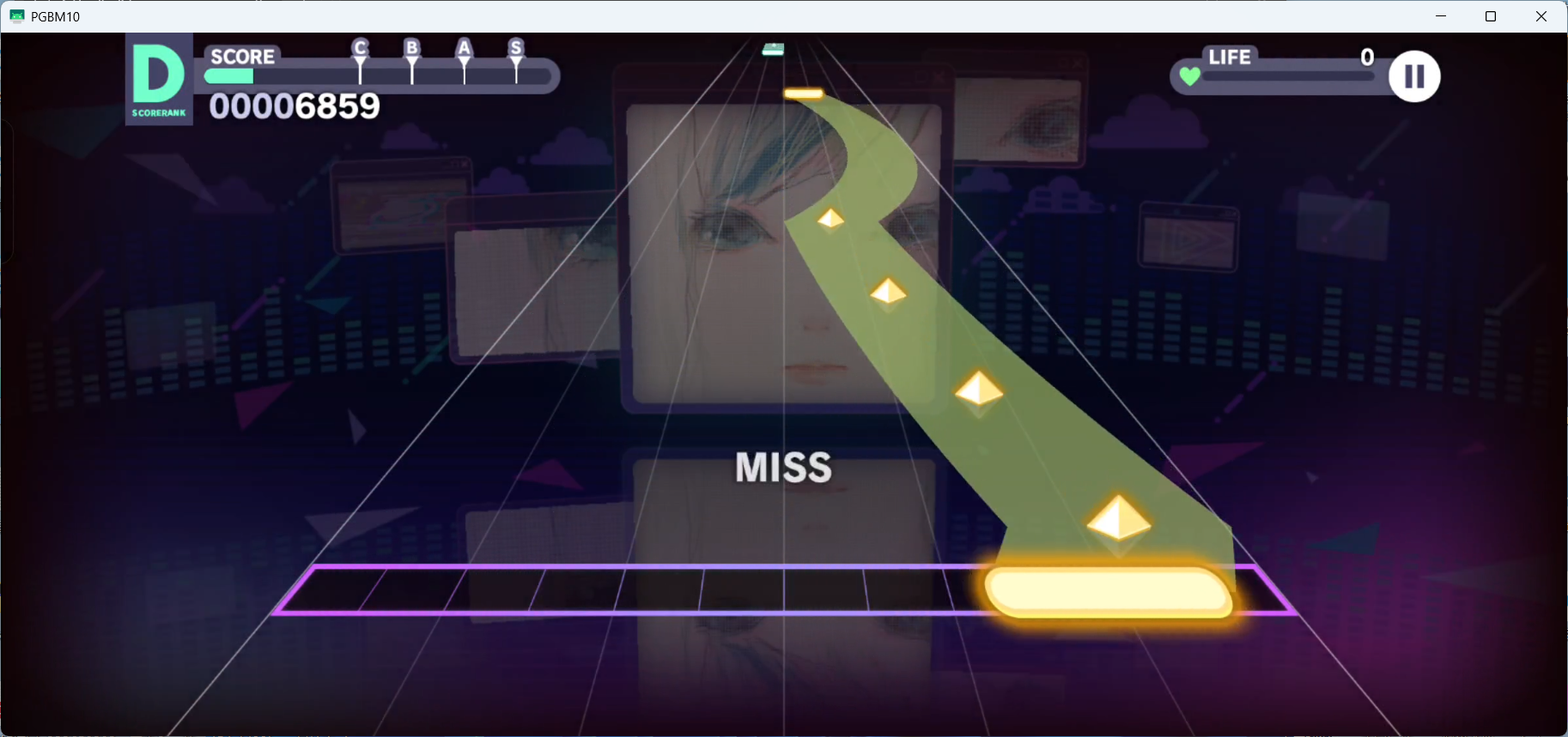hold: (783, 100, 1235, 554), (763, 43, 783, 50)
sweep: (1086, 495, 1152, 561), (955, 371, 1004, 420), (872, 278, 907, 316), (817, 207, 844, 237)
tap: (982, 568, 1235, 621), (783, 89, 823, 98), (761, 50, 783, 56)
